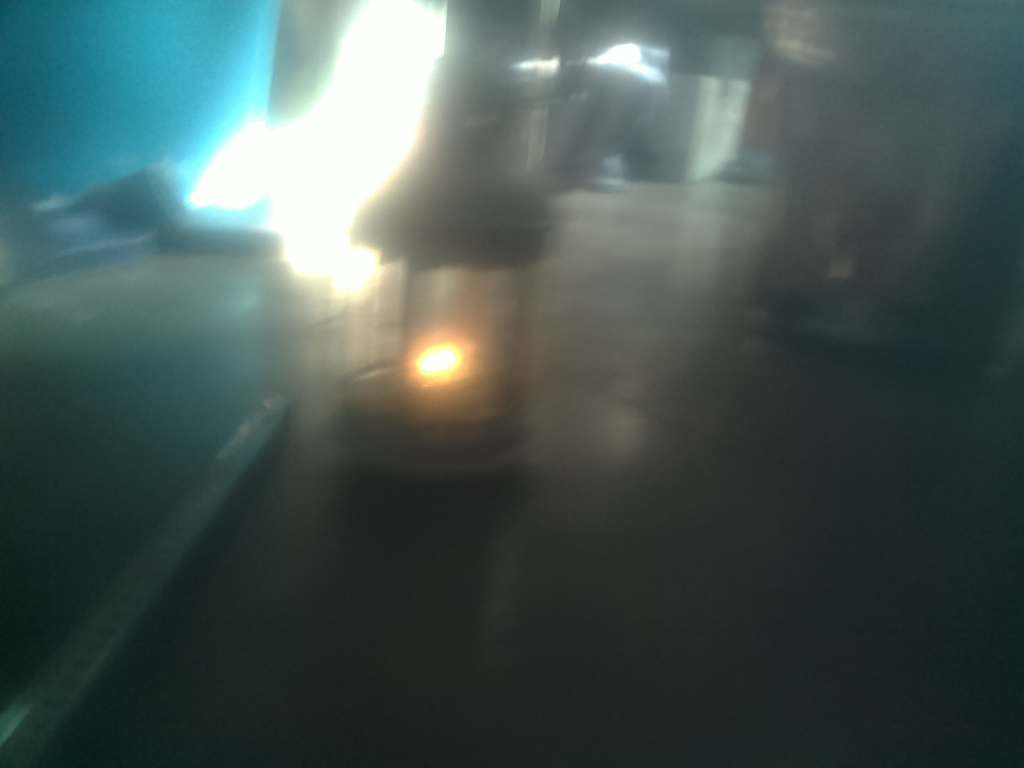fire: (397, 324, 495, 407)
